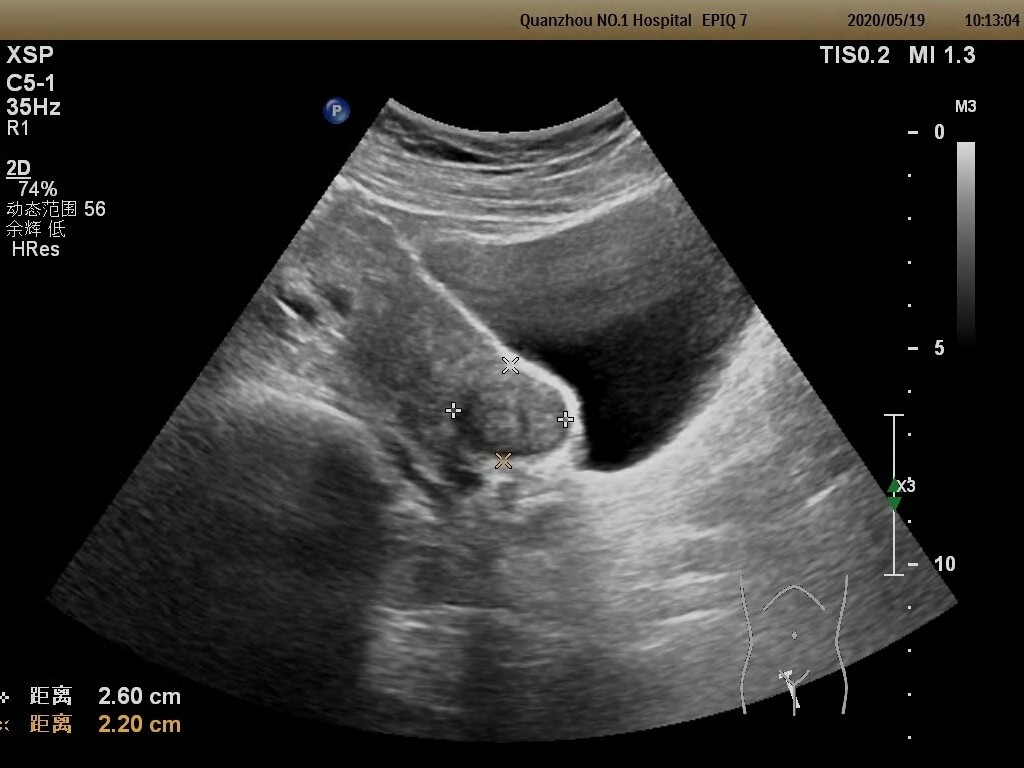肌瘤: (453, 362, 568, 459)
